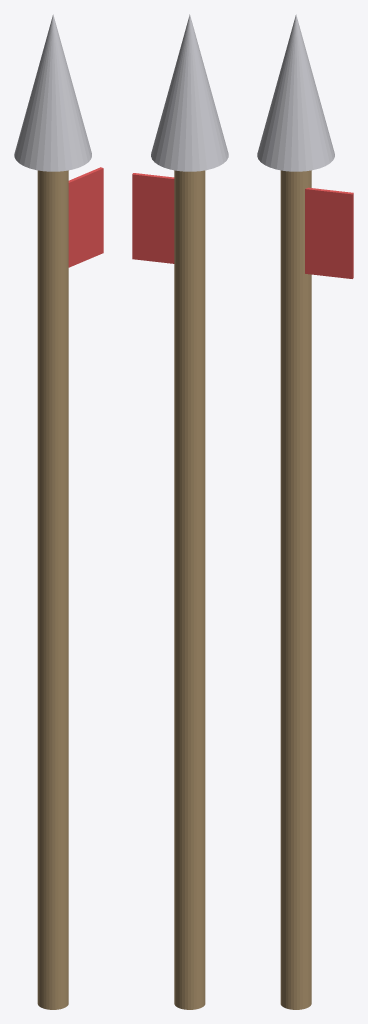
File: lance.glb
The picture shows the model from 3 angles, left to right: view 1: azimuth 30°, elevation 25°; view 2: azimuth 150°, elevation 25°; view 3: azimuth 330°, elevation 25°; orthographic projection.
Visible parts, largest first — view 1: Shaft, Tip, Ribbon; view 2: Shaft, Tip, Ribbon; view 3: Shaft, Tip, Ribbon.
Part boxes in pixels (x1,y1,x2,y2): Shaft: (37, 170, 68, 1009); Tip: (14, 14, 91, 171); Ribbon: (68, 167, 103, 267); Shaft: (174, 170, 205, 1009); Tip: (151, 14, 228, 171); Ribbon: (132, 173, 174, 263); Shaft: (280, 170, 311, 1009); Tip: (257, 14, 334, 171); Ribbon: (305, 187, 353, 278).
Size of the model in its own units: 0.1293 by 1.4 by 0.1.
